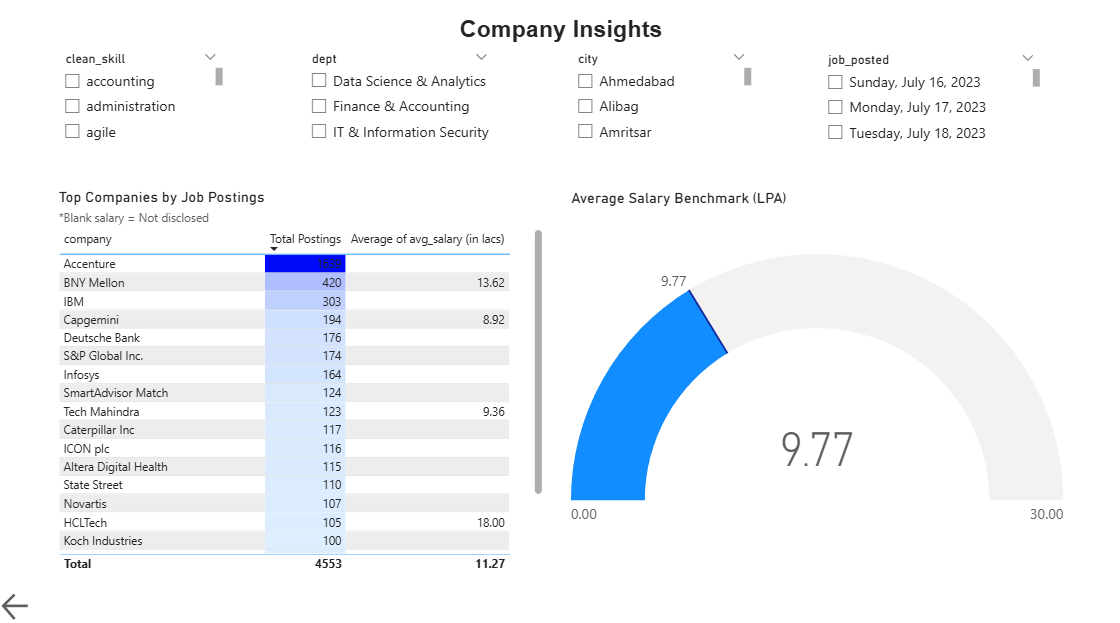

The dashboard page shown, as its layout file describes it:
{"tool":"powerbi","page":{"name":"Insights","canvas":[1280,720],"ordinal":3},"visuals":[{"type":"slicer","fields":{"Values":["DimSkills.clean_skill"]},"box":[64.1,61.3,196.7,121.2],"z":0},{"type":"slicer","fields":{"Values":["DimDepts.dept"]},"box":[344.9,61.3,225.2,121.2],"z":1000},{"type":"slicer","fields":{"Values":["DimLocations.city"]},"box":[648.6,61.3,215.2,119.7],"z":2000},{"type":"slicer","fields":{"Values":["FactJobs.job_posted"]},"box":[933.6,62.7,259.4,119.7],"z":3000},{"type":"tableEx","title":"Top Companies by Job Postings","fields":{"Values":["FactJobs.company","_Measures.Total Postings","Avg(FactJobs.avg_salary (in lacs))"]},"box":[64.3,222.9,561.4,442.9],"z":4000},{"type":"gauge","title":"Average Salary Benchmark (LPA)","fields":{"Y":["Avg(FactJobs.avg_salary (in lacs))"]},"box":[648.6,224.3,571.4,441.4],"z":5000},{"type":"textbox","box":[64.1,21.4,1156,41.3],"z":6000},{"type":"actionButton","box":[0,679.9,41.3,39.9],"z":7000}]}

Visuals, with their boxes in screenshot pixels (x1, y1, x2, y2), scaled from the page's 1280x720 canvas onto the 1120x623 screenshot:
slicer - DimSkills.clean_skill: BBox(56, 53, 228, 158)
slicer - DimDepts.dept: BBox(302, 53, 499, 158)
slicer - DimLocations.city: BBox(568, 53, 756, 157)
slicer - FactJobs.job_posted: BBox(817, 54, 1044, 158)
"Top Companies by Job Postings" tableEx: BBox(56, 193, 547, 576)
"Average Salary Benchmark (LPA)" gauge: BBox(568, 194, 1068, 576)
textbox: BBox(56, 19, 1068, 54)
actionButton: BBox(0, 588, 36, 622)
